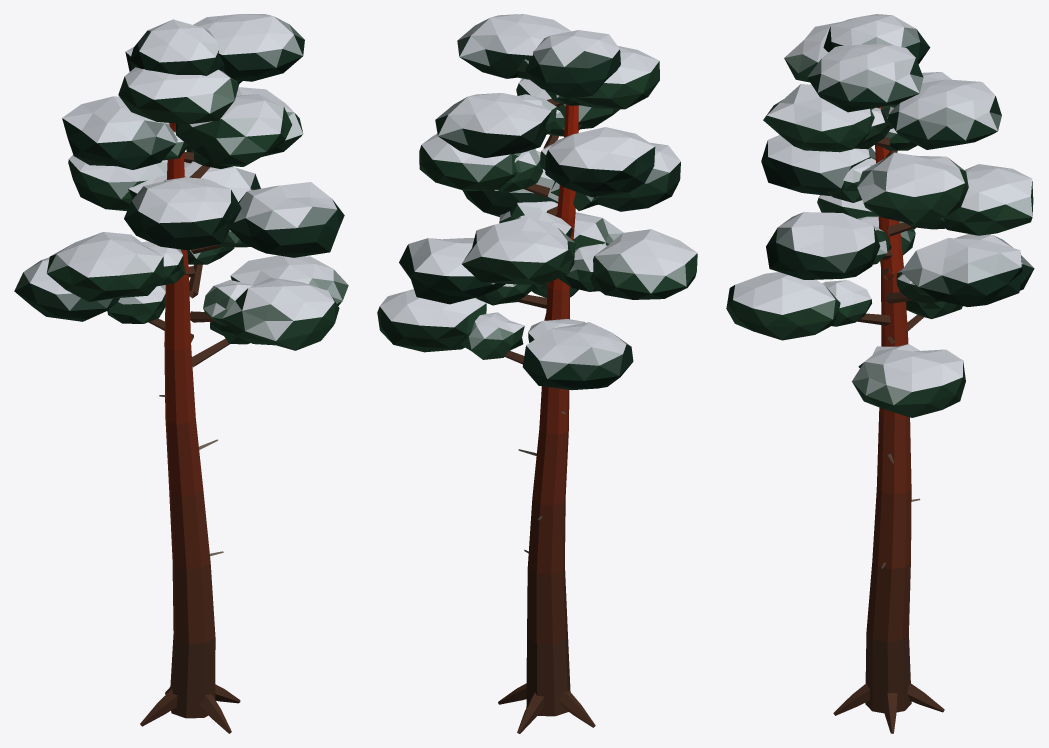
File: tree_pine.glb
3 views of the same model, side by side, from view 1: azimuth 30°, elevation 25°; view 2: azimuth 150°, elevation 25°; view 3: azimuth 270°, elevation 25° (orthographic). The views are drawn at different scales.
Parts seen in each view (by area): view 1: tree_pine; view 2: tree_pine; view 3: tree_pine.
Boxes of the visible parts, bbox=[...] form: tree_pine: bbox=[14, 14, 348, 733]; tree_pine: bbox=[377, 14, 697, 733]; tree_pine: bbox=[726, 14, 1034, 733].
Size of the model in its own units: 5.3 by 11.67 by 4.78.
